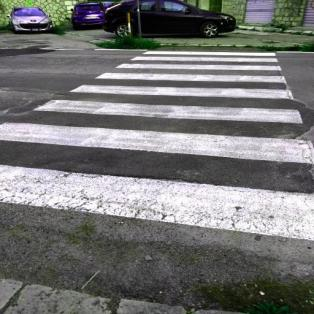Paso de Cebra: (26, 83, 308, 126), (128, 50, 282, 64)
